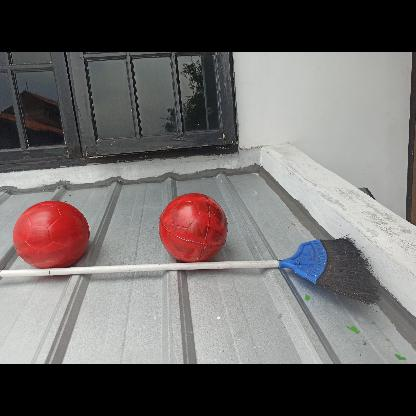red_ball: (13, 198, 87, 272), (160, 192, 228, 260)
